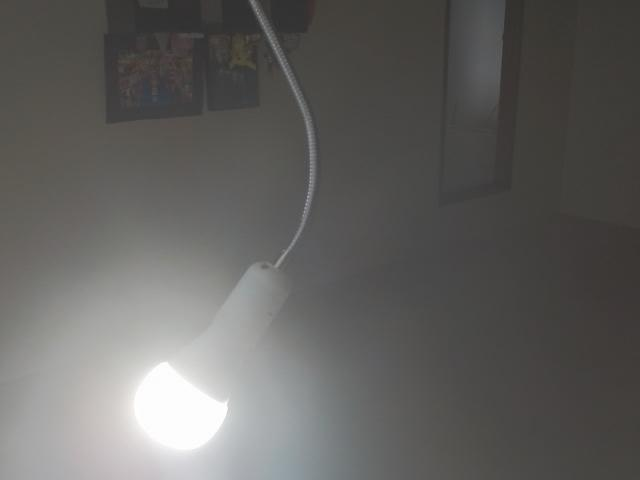TubeLight: (131, 299, 256, 449)
